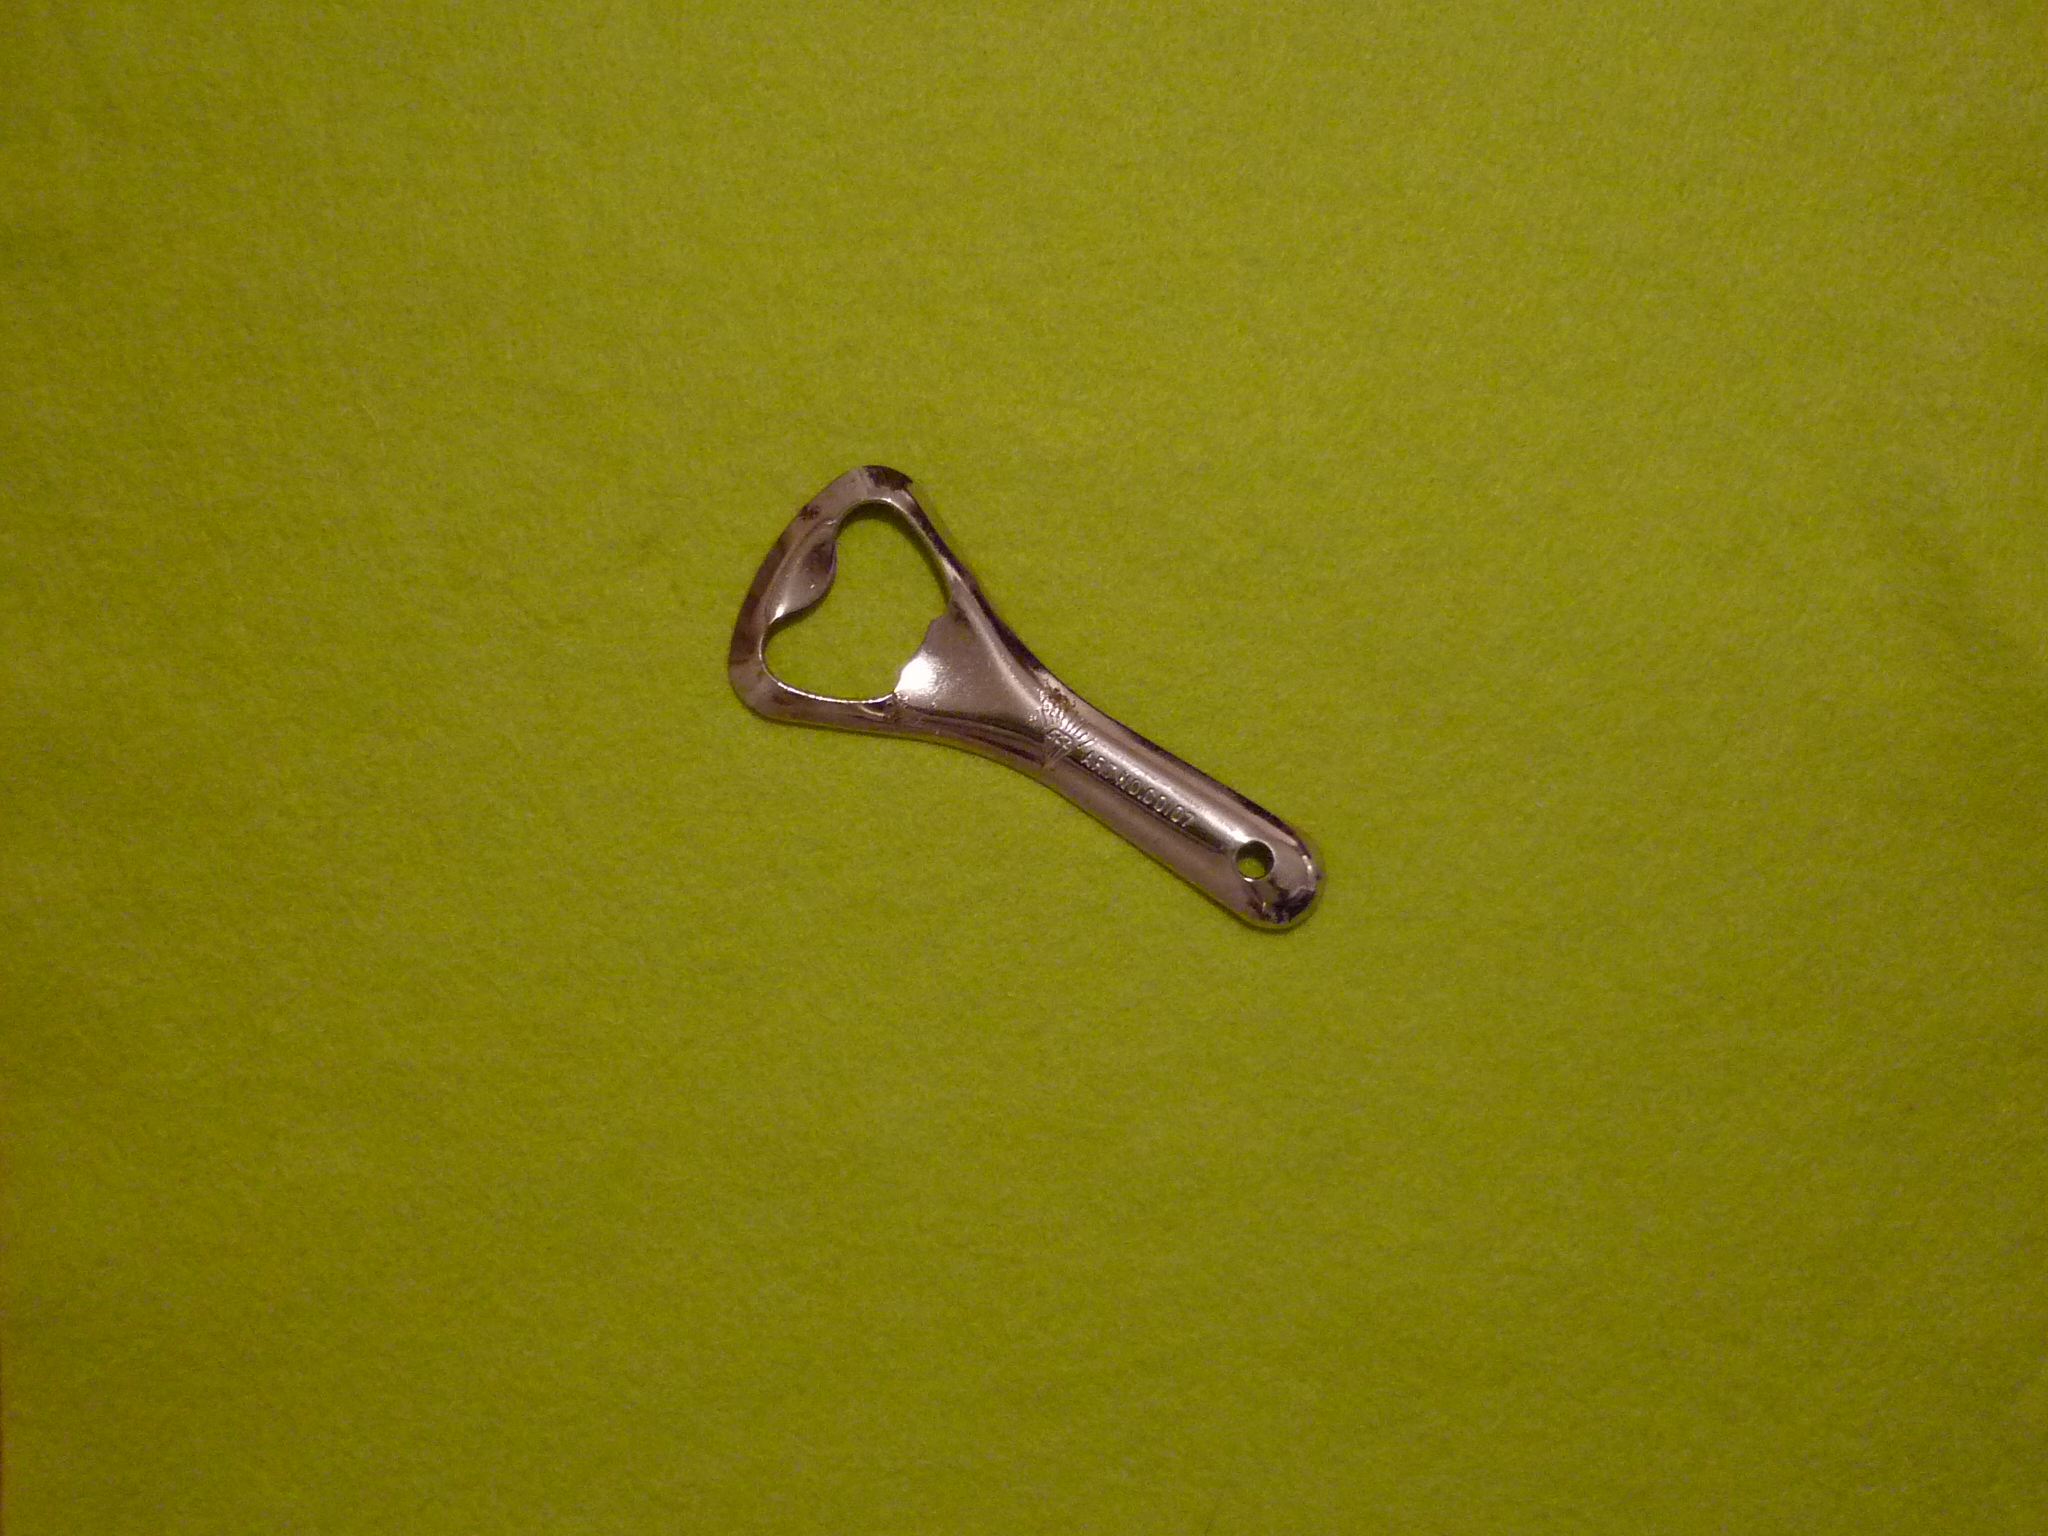bottleopener: (727, 468, 1324, 936)
